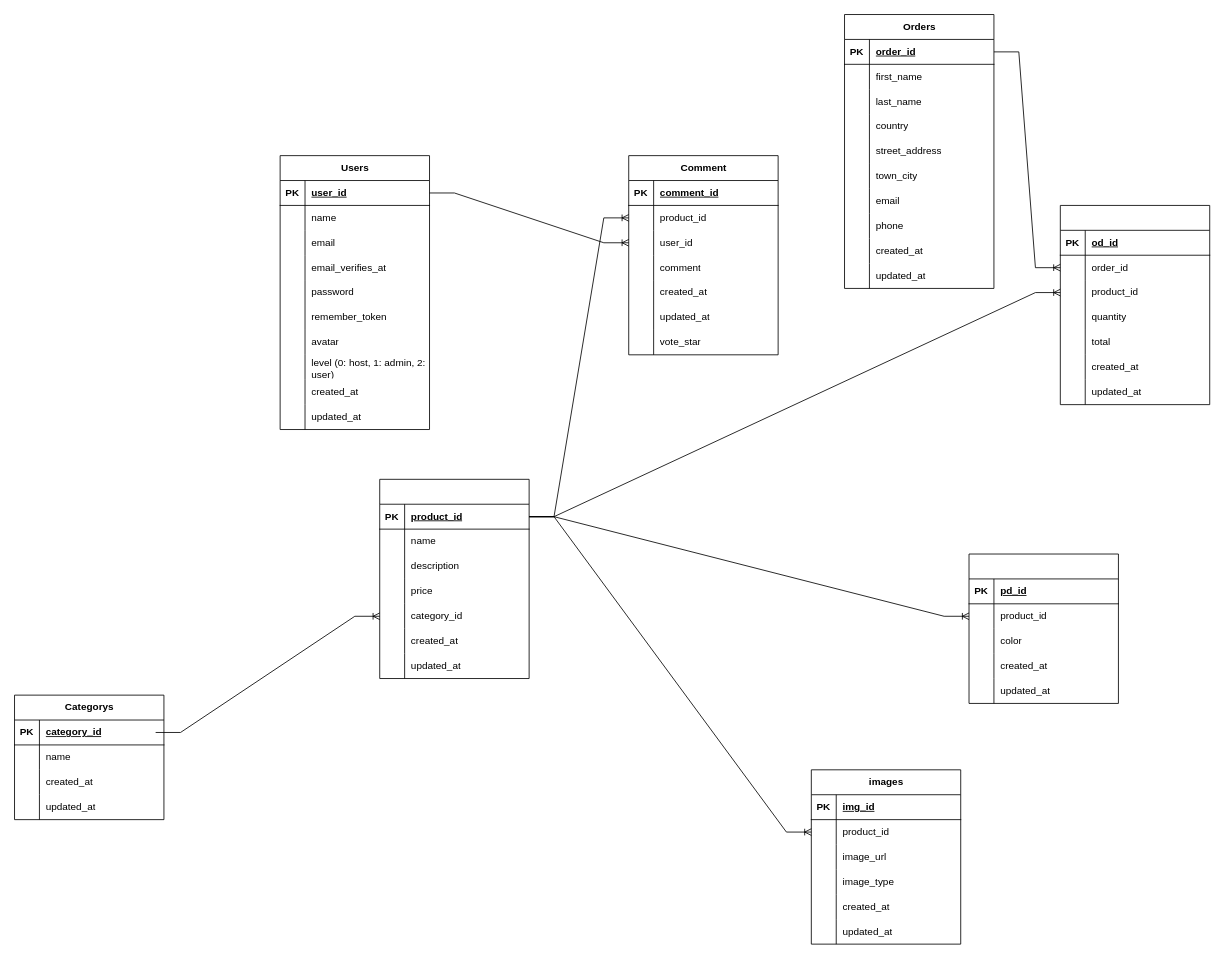
Image size: 1224x959. Some labels were removed from this diagram. The shapes that lost their labels are listed below. From the top down, each one's box as (x1, y1, x2, y2) in pixels, then its label:
(1059, 205, 1210, 405): Order_deatils
(379, 478, 529, 679): Products
(968, 553, 1118, 703): product_details
